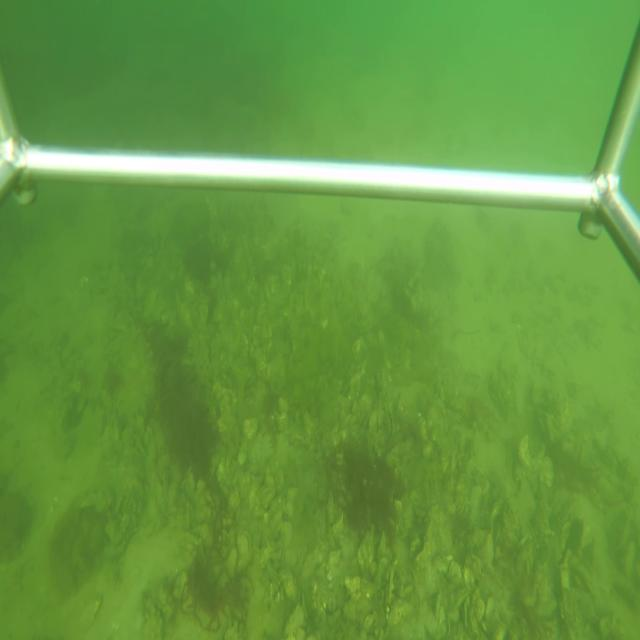Oyster-Closed: (384, 554, 399, 625)
Oyster-Open: (383, 401, 396, 452)
